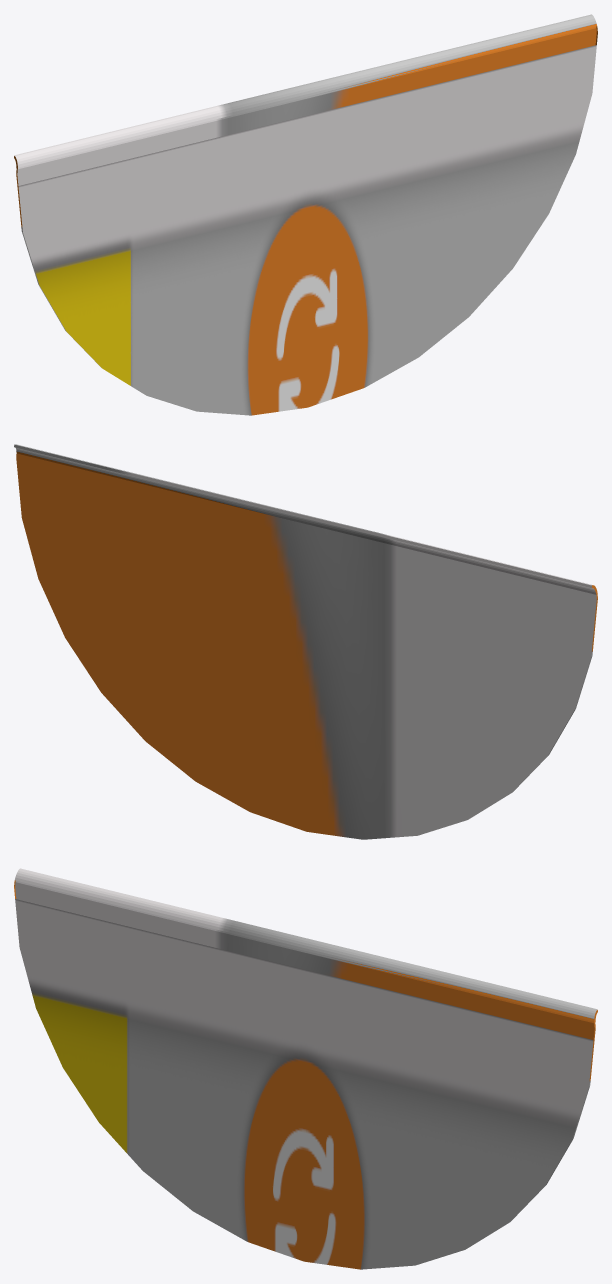
The model's file is mediaquesadilla2.obj.
3 renders of one model, top to bottom at view 1: azimuth 30°, elevation 25°; view 2: azimuth 150°, elevation 25°; view 3: azimuth 330°, elevation 25°, orthographic.
Parts seen in each view (by area): view 1: Tortilla; view 2: Tortilla; view 3: Tortilla.
Part boxes in pixels (left/top/right/bottom): Tortilla: left=14, top=14, right=597, bottom=415; Tortilla: left=14, top=444, right=597, bottom=839; Tortilla: left=14, top=868, right=597, bottom=1269.
Bounding box in the file's own units: 1.79 × 0.942 × 0.0253.
